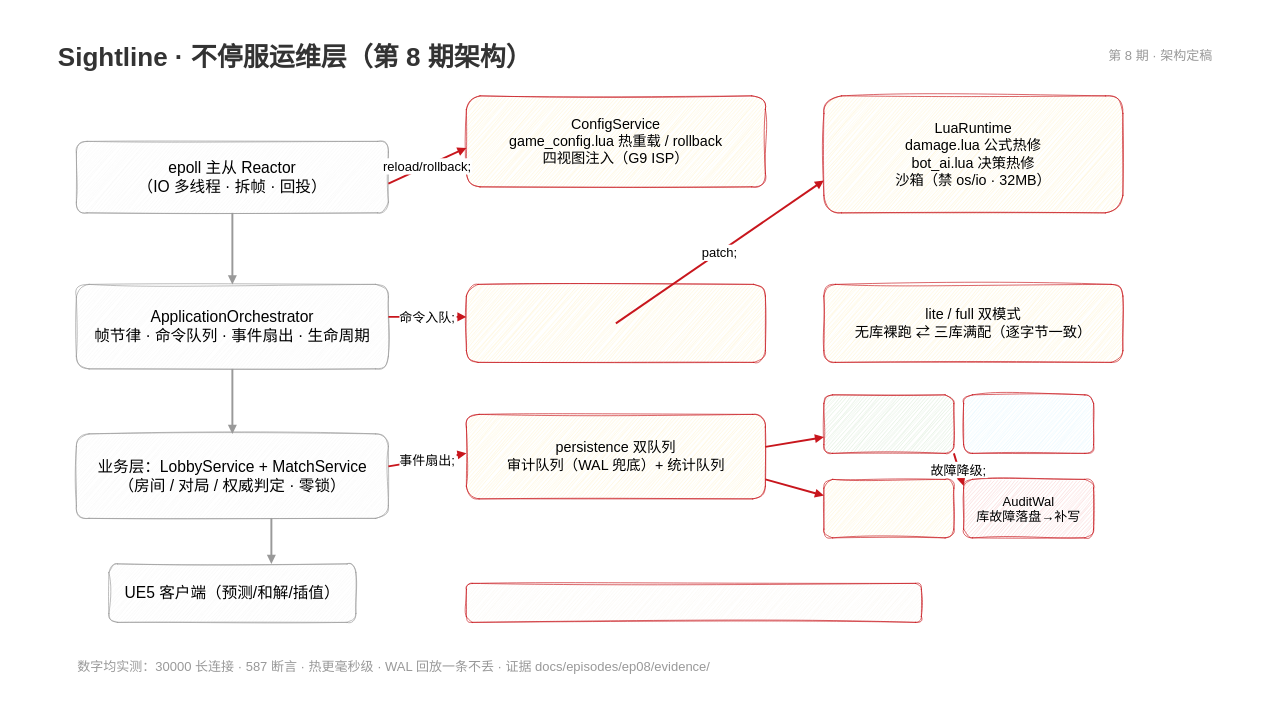
Some shapes in this 1270 by 724 pixel diagram are drawn without their labels. Each missing label, with the centre of its shape:
"MongoDB 一局一文档战报" goes at point 1028,423.
"MySQL 战绩+审计链" goes at point 888,423.
"Redis 热榜+登录态" goes at point 888,508.
"红描边 = 第 8 期新增 灰 = 既有（第 1~7 期）" goes at point 693,602.
"运维命令口 :18889 nc → 命令队列 → 回执回写" goes at point 615,323.
